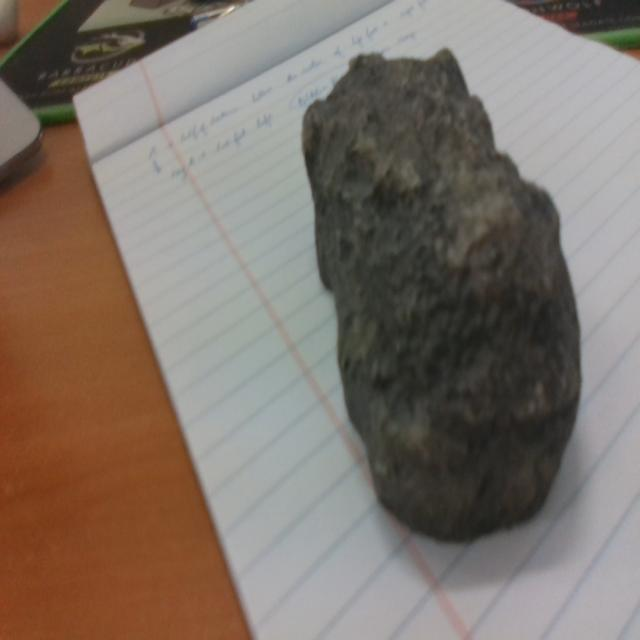stone: (301, 46, 583, 542)
